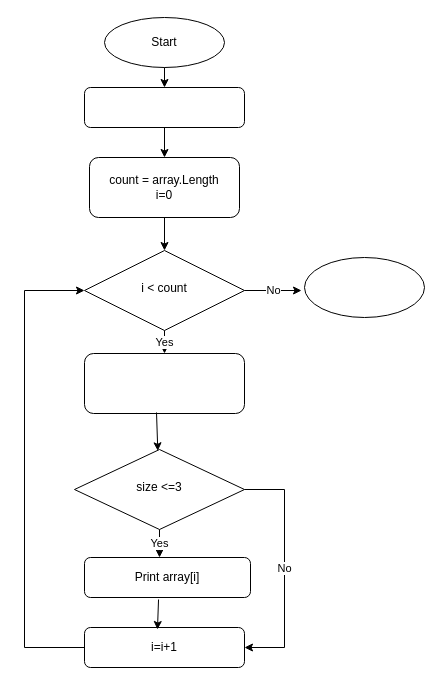
This 442x685 diagram has some shape labels left out. The centre of each missing label's shape, as x and y in pixels:
array = hello, 2, world, :-): point (164, 107)
End: point (364, 287)
size = array [i] Length: point (164, 383)
